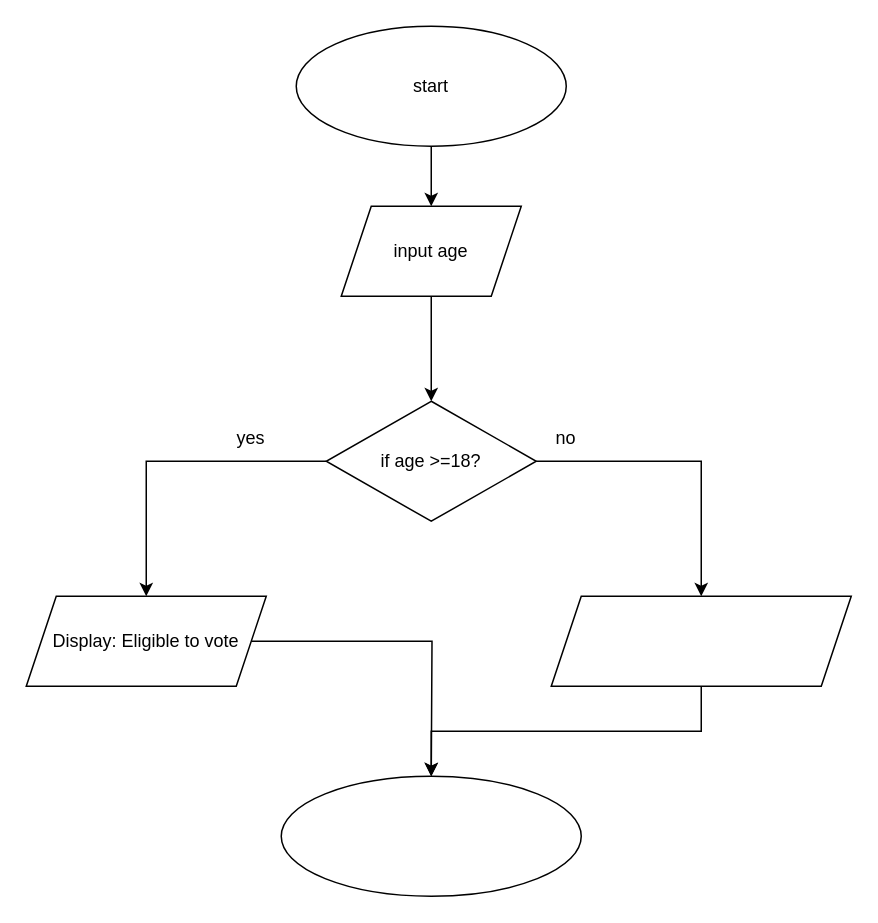
Image size: 878x923. Some labels were removed from this diagram. The shapes that lost their labels are listed below. From the top down, each one's centre as x and y in pixels, then its label:
At point 700,640: "Display Not eligible to vote".
At point 430,835: "End".
